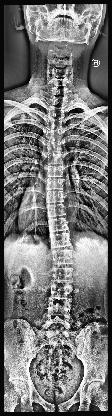Vertebrae: (50, 284, 75, 304), (47, 302, 71, 318), (52, 250, 74, 266), (51, 268, 75, 282), (52, 233, 72, 249), (47, 318, 71, 330), (49, 218, 69, 232), (47, 204, 66, 218), (47, 190, 65, 204), (47, 139, 63, 153), (46, 178, 64, 190), (48, 107, 65, 119), (47, 118, 63, 130), (46, 128, 62, 140), (47, 153, 63, 165), (48, 166, 64, 178), (52, 96, 66, 106)
